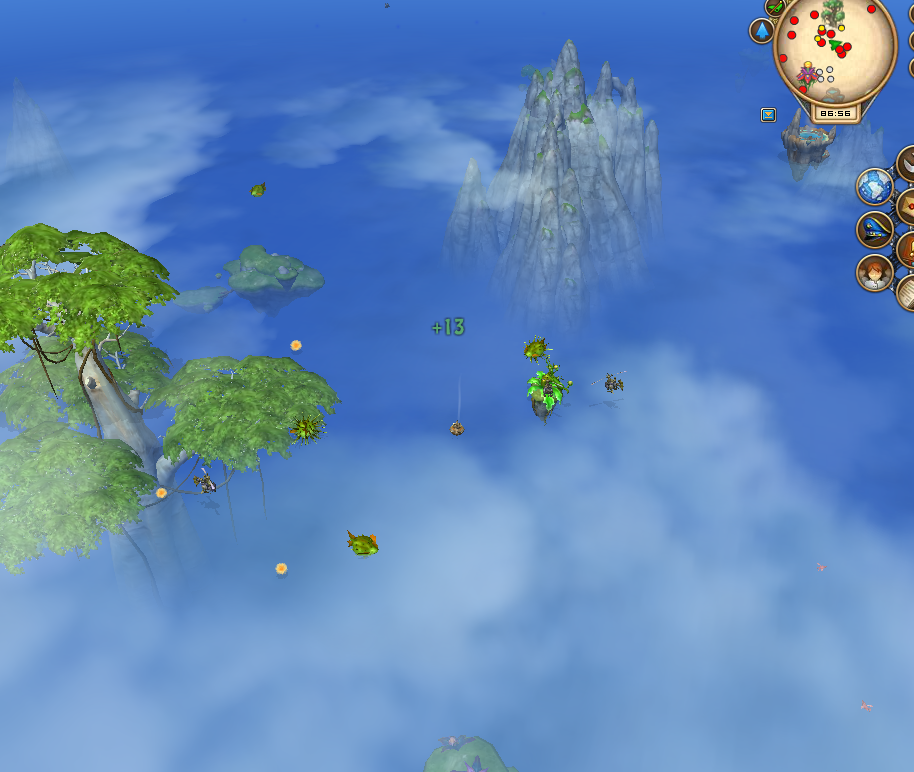dandelion-empty: (519, 355, 576, 423)
fluff: (282, 331, 307, 354), (269, 557, 291, 580), (148, 484, 171, 502)
